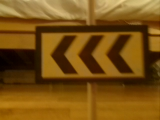left: (36, 27, 149, 81)
